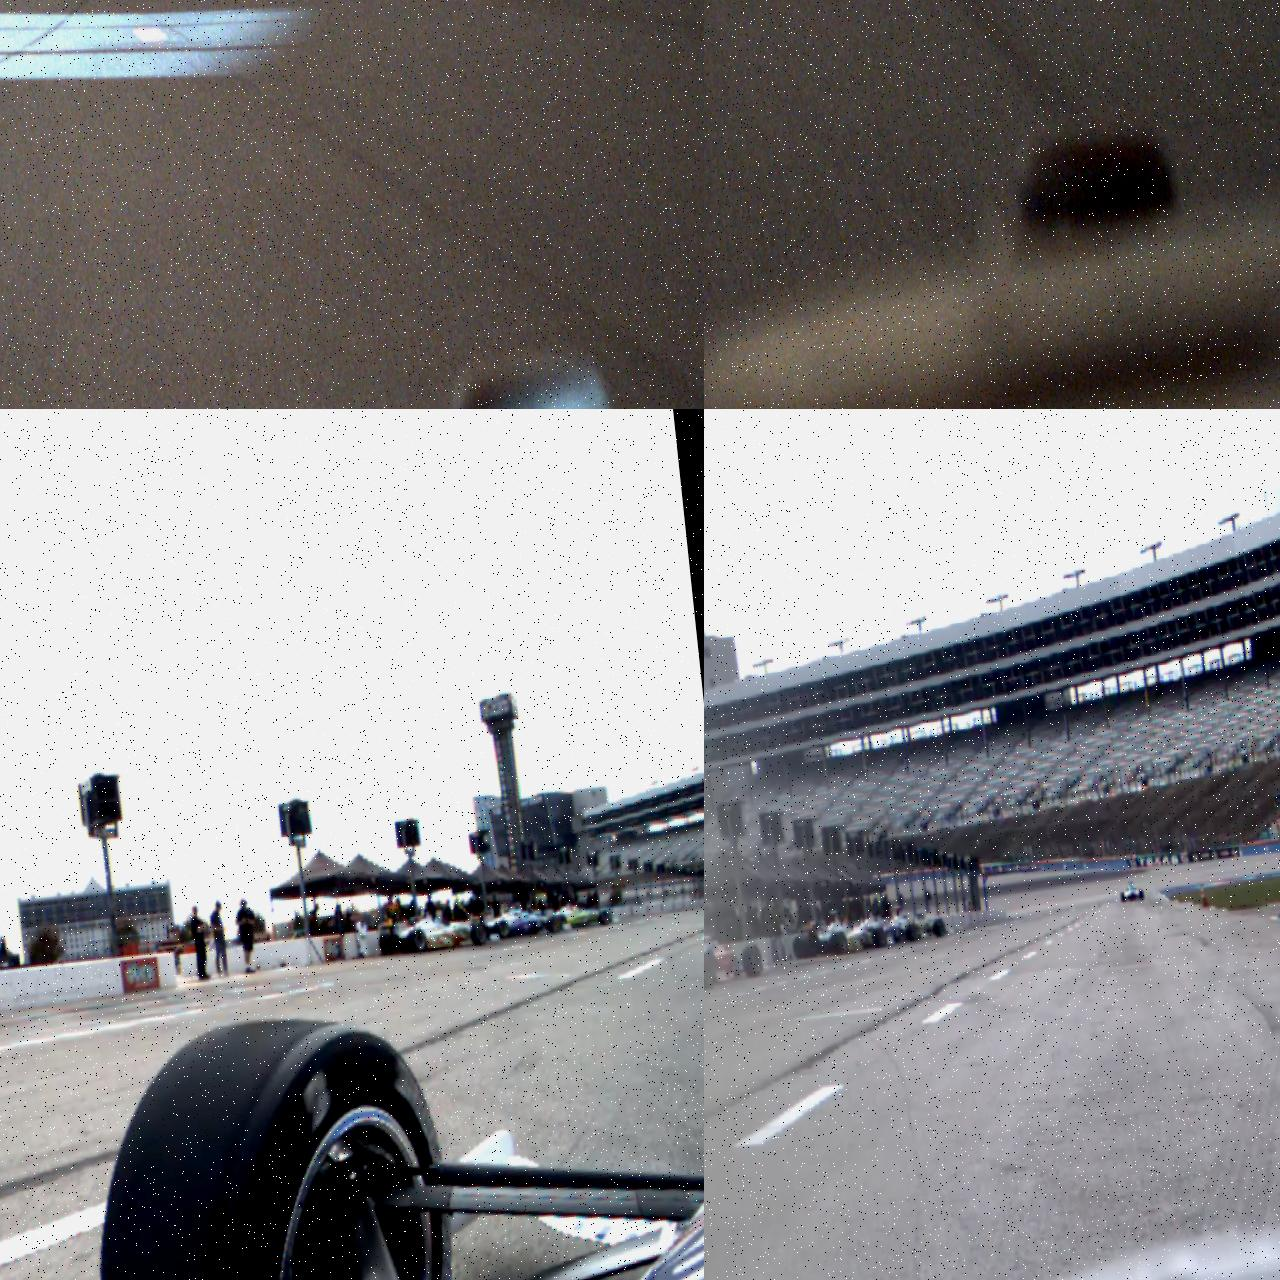AV: (377, 906, 491, 958), (483, 899, 562, 942), (550, 896, 613, 932), (1119, 880, 1144, 902)
Wheel: (73, 1001, 485, 1280), (741, 944, 764, 979), (704, 948, 719, 990), (829, 931, 850, 956), (408, 928, 428, 954), (470, 922, 490, 947), (379, 932, 398, 955), (546, 915, 562, 934), (496, 919, 510, 940), (872, 928, 886, 949), (932, 918, 946, 938), (598, 908, 612, 926), (905, 924, 919, 942), (1138, 889, 1144, 899), (1120, 892, 1124, 902)
